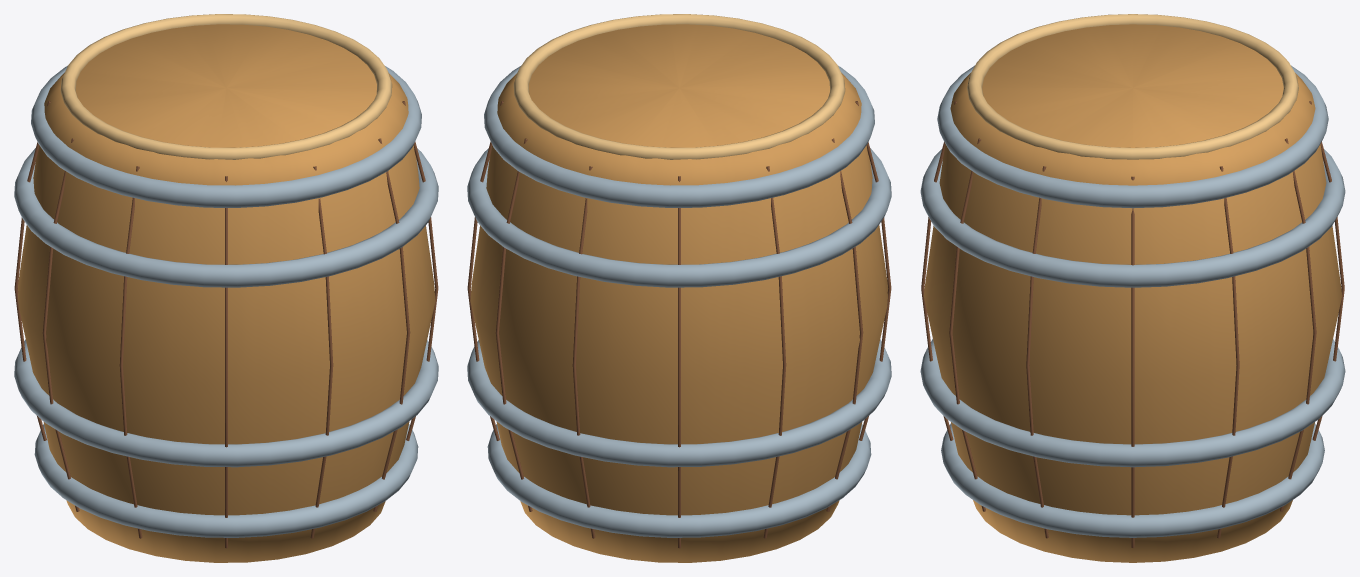
The model's file is BARREL.glb.
The picture shows the model from 3 angles, left to right: view 1: azimuth 30°, elevation 25°; view 2: azimuth 150°, elevation 25°; view 3: azimuth 270°, elevation 25°; orthographic projection.
Parts seen in each view (by area): view 1: BARREL; view 2: BARREL; view 3: BARREL.
Boxes of the visible parts, x1,y1,x2,y2 form: BARREL: (14, 14, 438, 562); BARREL: (467, 14, 891, 562); BARREL: (920, 14, 1345, 562).
Size of the model in its own units: 0.558 by 0.6 by 0.558.
4 materials, 2 textured.
